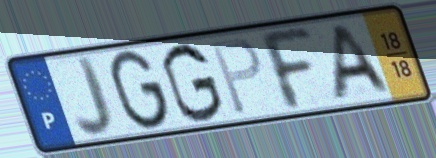A: (328, 22, 396, 103)
F: (253, 26, 318, 114)
G: (159, 40, 226, 125), (107, 47, 173, 133)
J: (73, 53, 117, 140)
P: (208, 35, 265, 118)
